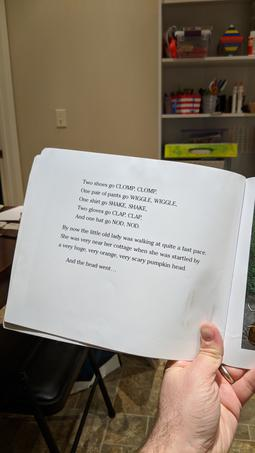text block: (57, 172, 211, 283)
